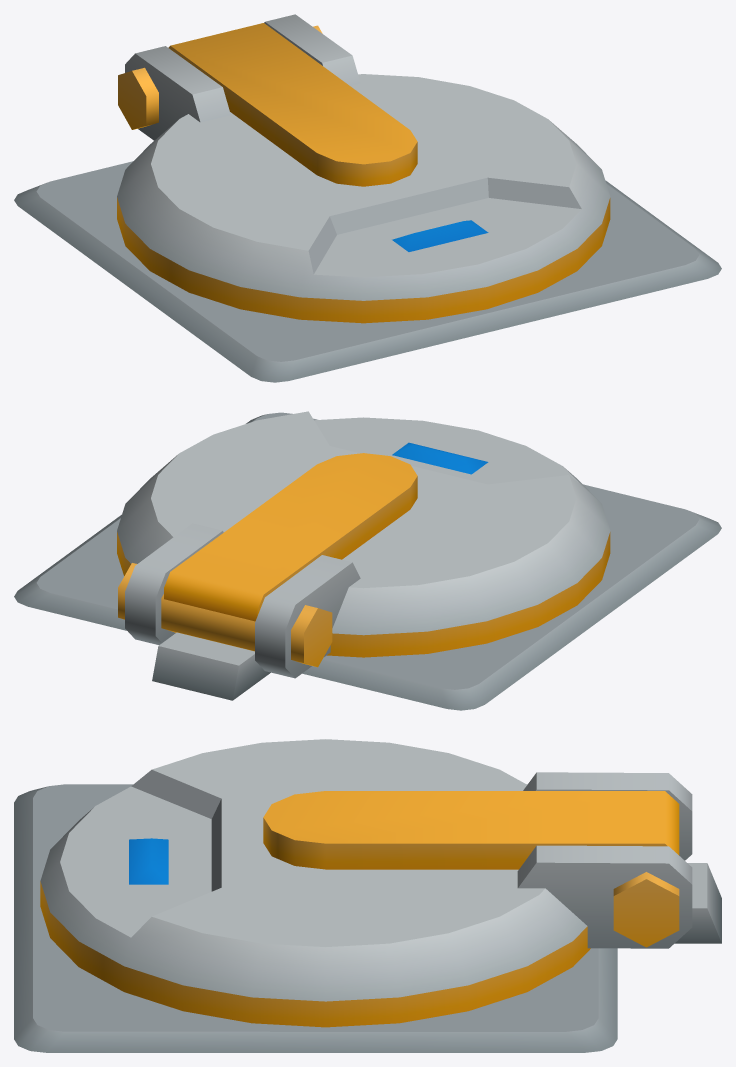
File: Hatch_003.glb
3 renders of one model, top to bottom at view 1: azimuth 30°, elevation 25°; view 2: azimuth 150°, elevation 25°; view 3: azimuth 270°, elevation 25°, orthographic. The views are drawn at different scales.
Parts seen in each view (by area): view 1: Hatch_003; view 2: Hatch_003; view 3: Hatch_003.
Boxes of the visible parts, x1,y1,x2,y2 form: Hatch_003: (14, 14, 721, 382); Hatch_003: (14, 411, 721, 710); Hatch_003: (14, 739, 721, 1052).
Bounding box in the file's own units: 0.8747 × 0.1604 × 0.9925.
2 materials, 2 textured.
